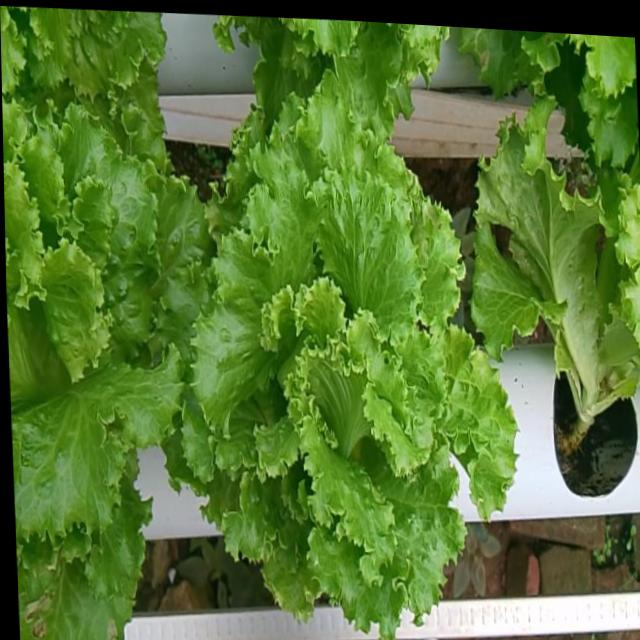Mature: (177, 99, 511, 640), (4, 109, 203, 551)
